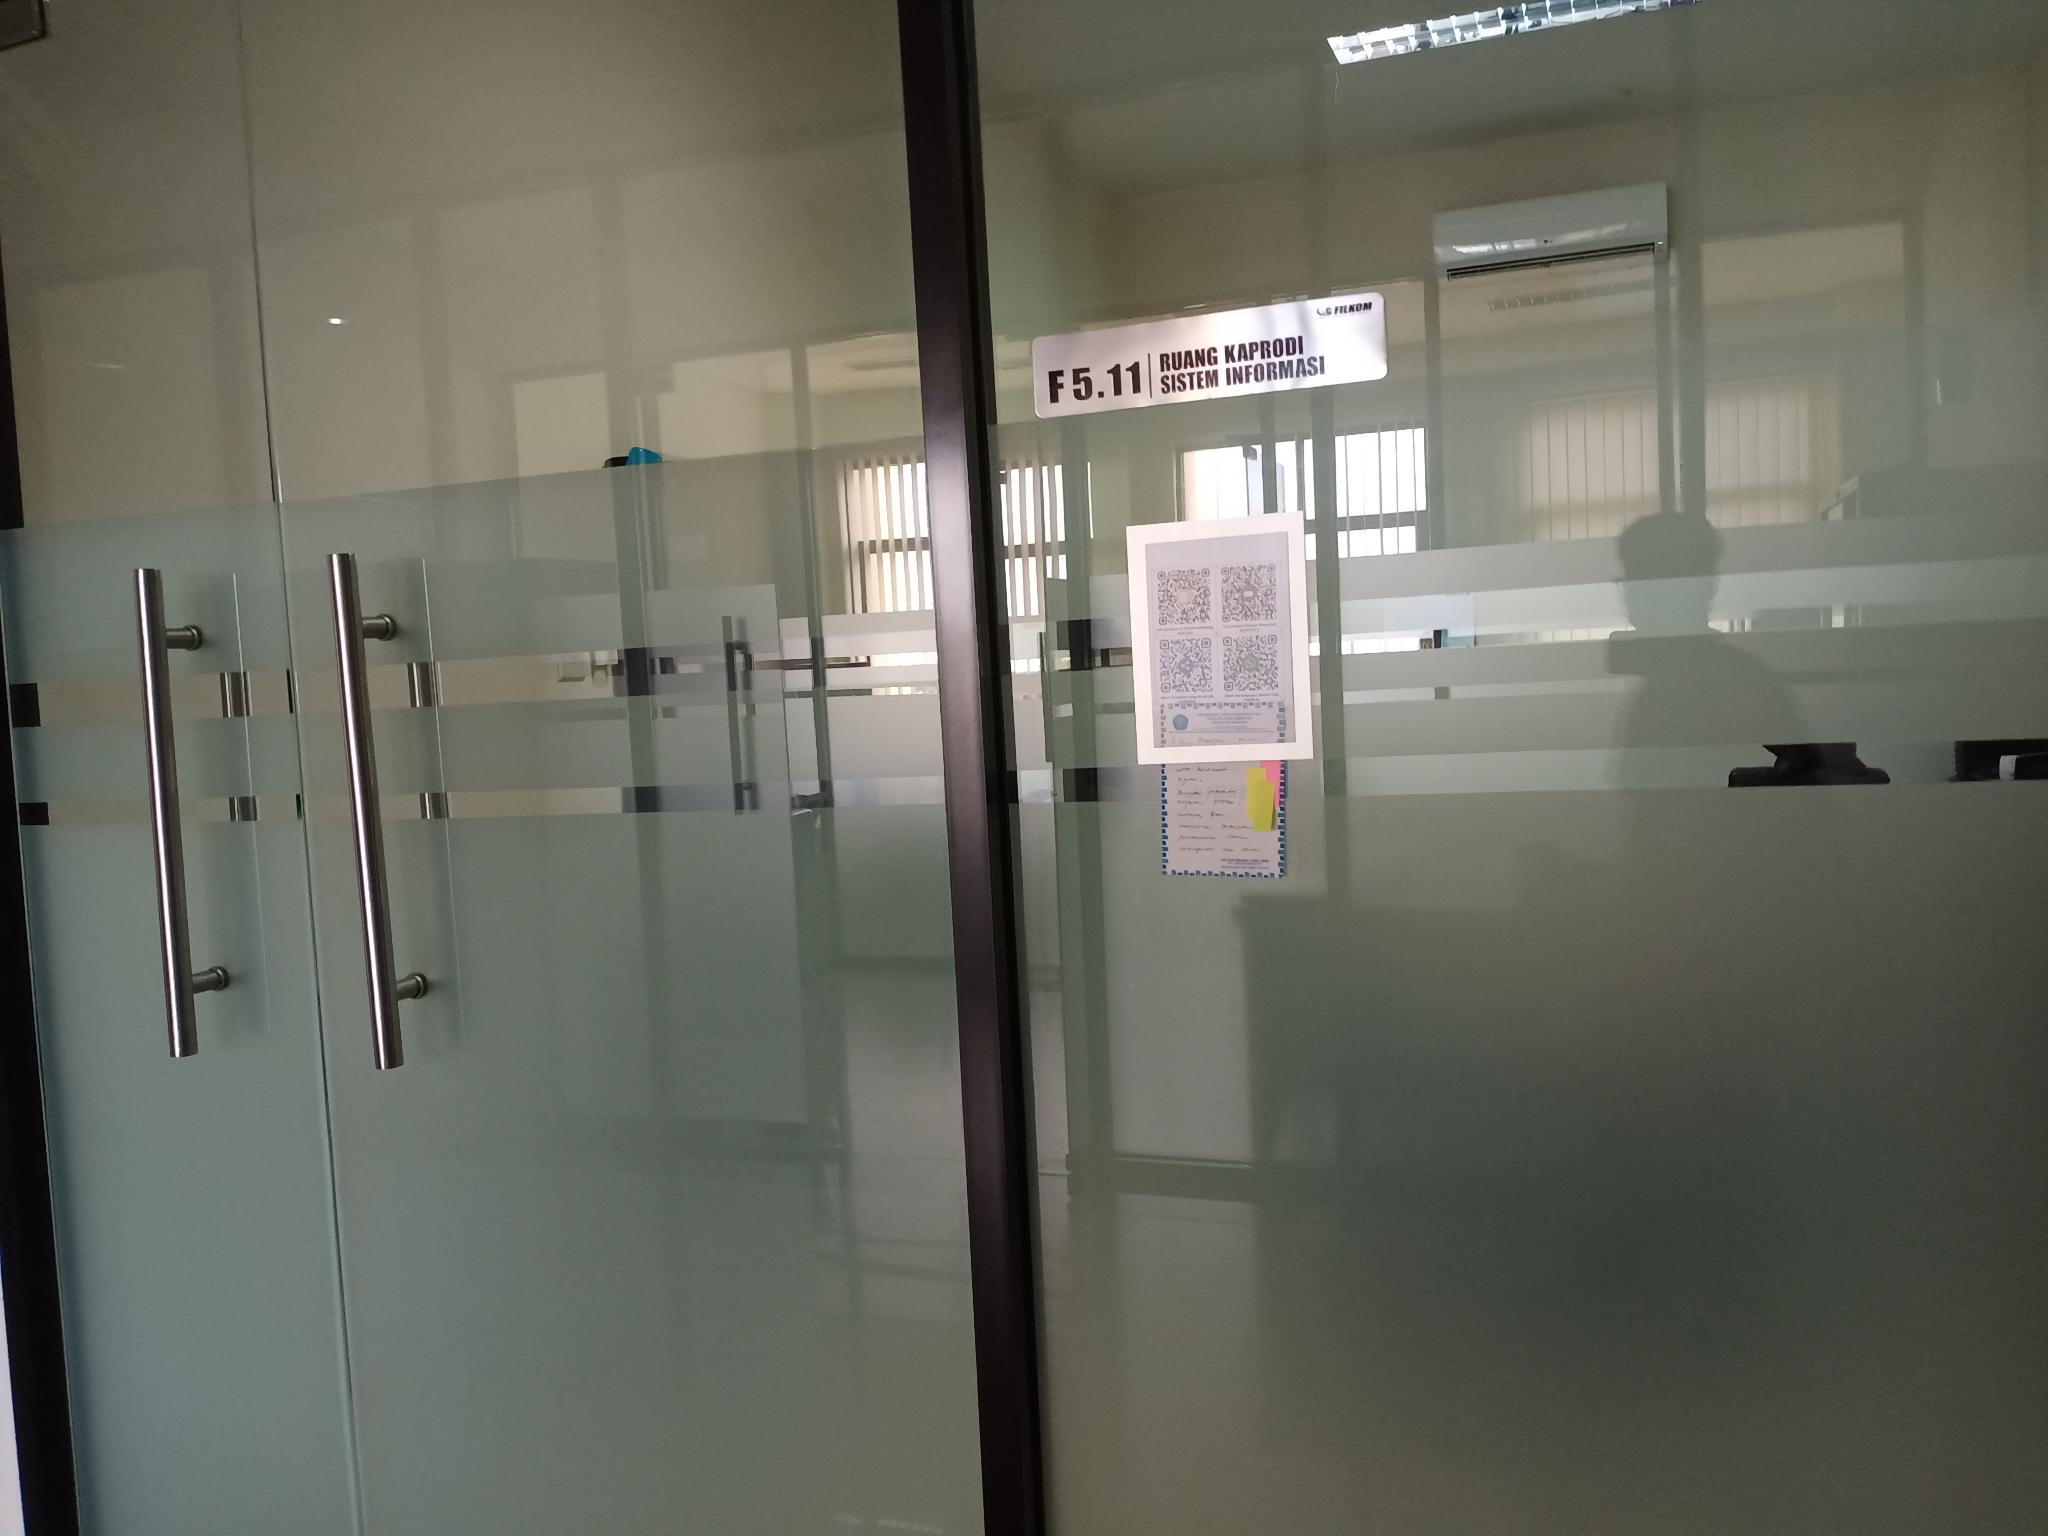plate: (1032, 292, 1390, 418)
